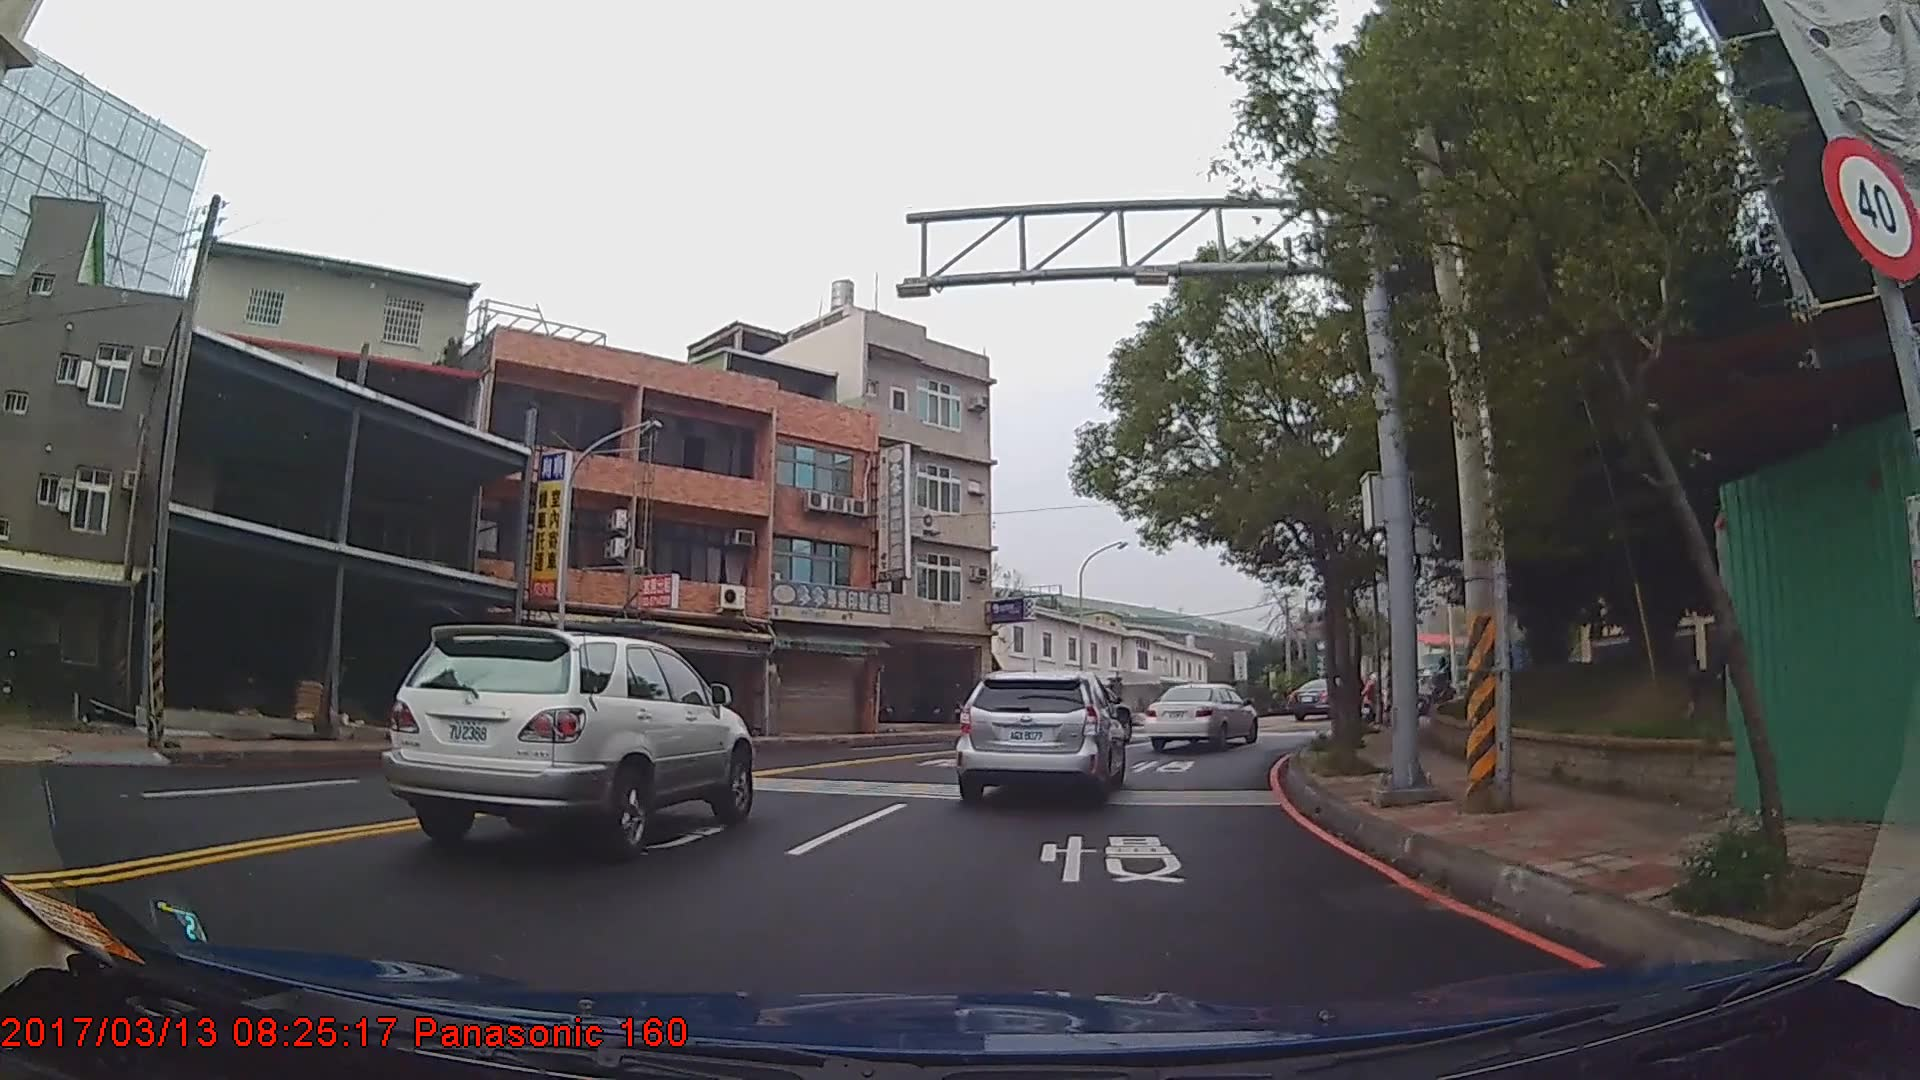vehicle: (378, 622, 756, 862), (953, 669, 1127, 807), (1143, 683, 1259, 752), (1284, 676, 1354, 720)
